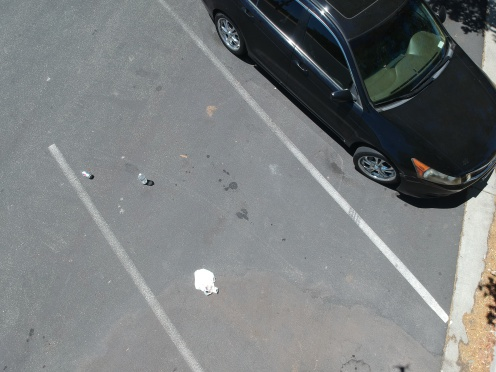bottle: (134, 169, 149, 185)
can: (79, 168, 97, 181)
plastic bag: (190, 266, 225, 301)
